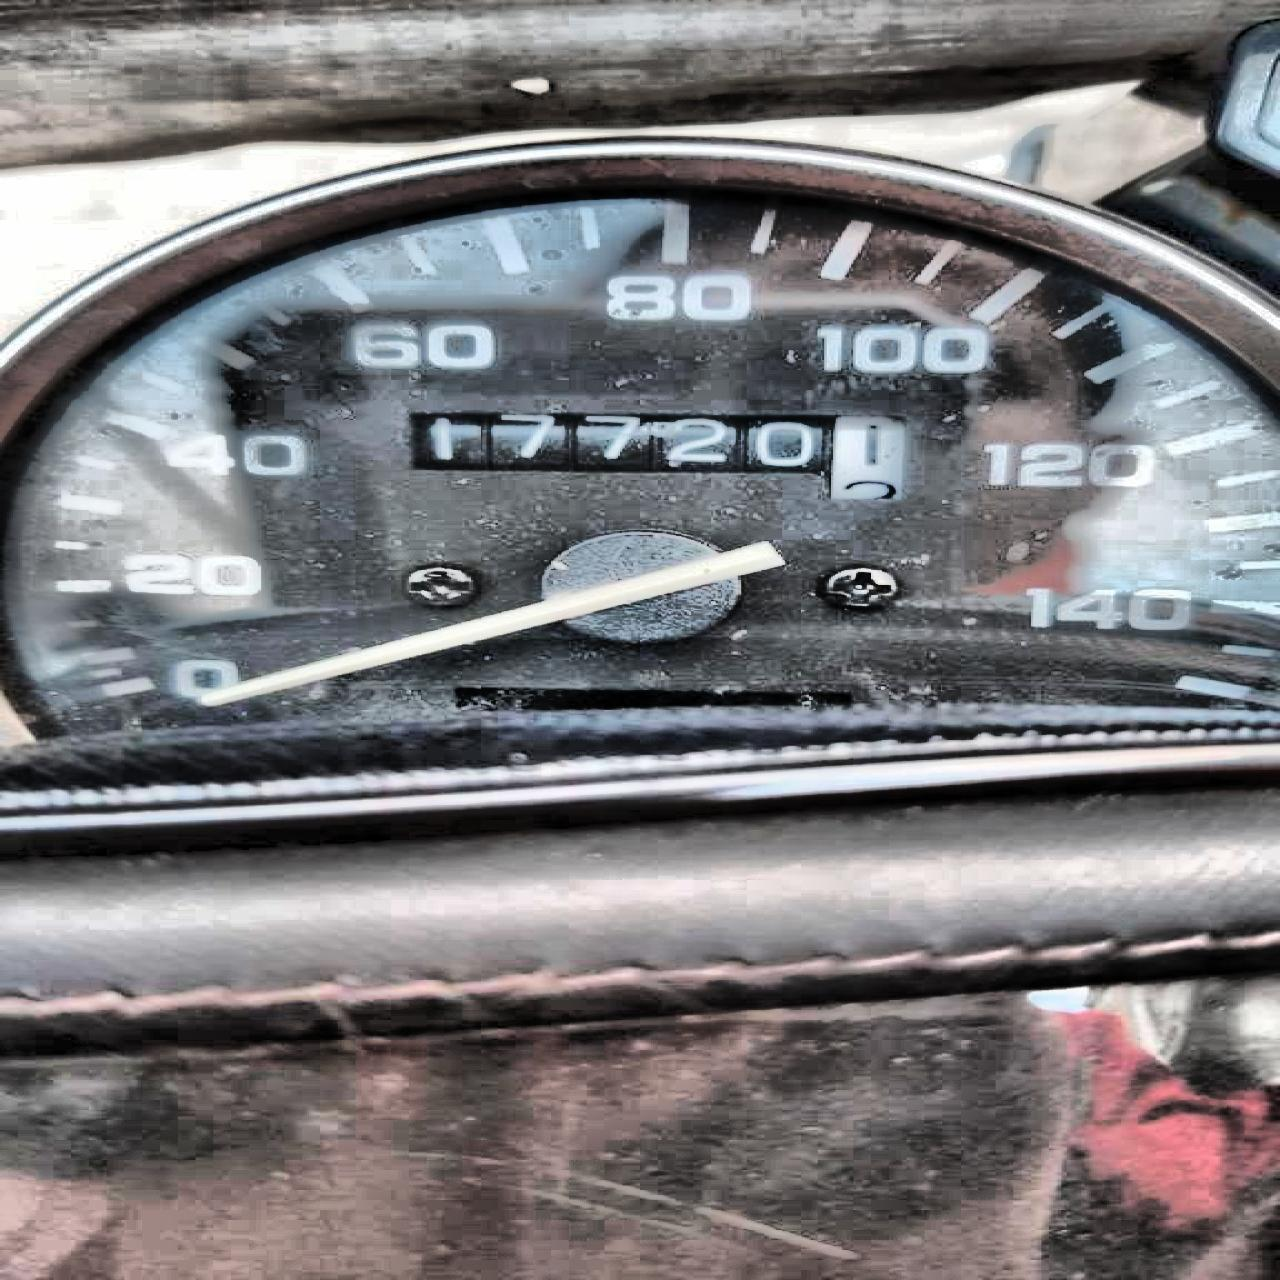0: (749, 418, 816, 468)
1: (849, 418, 888, 467), (424, 414, 459, 459)
2: (660, 415, 729, 463)
7: (576, 411, 642, 459), (493, 411, 558, 458)
odometer: (399, 406, 920, 505)
